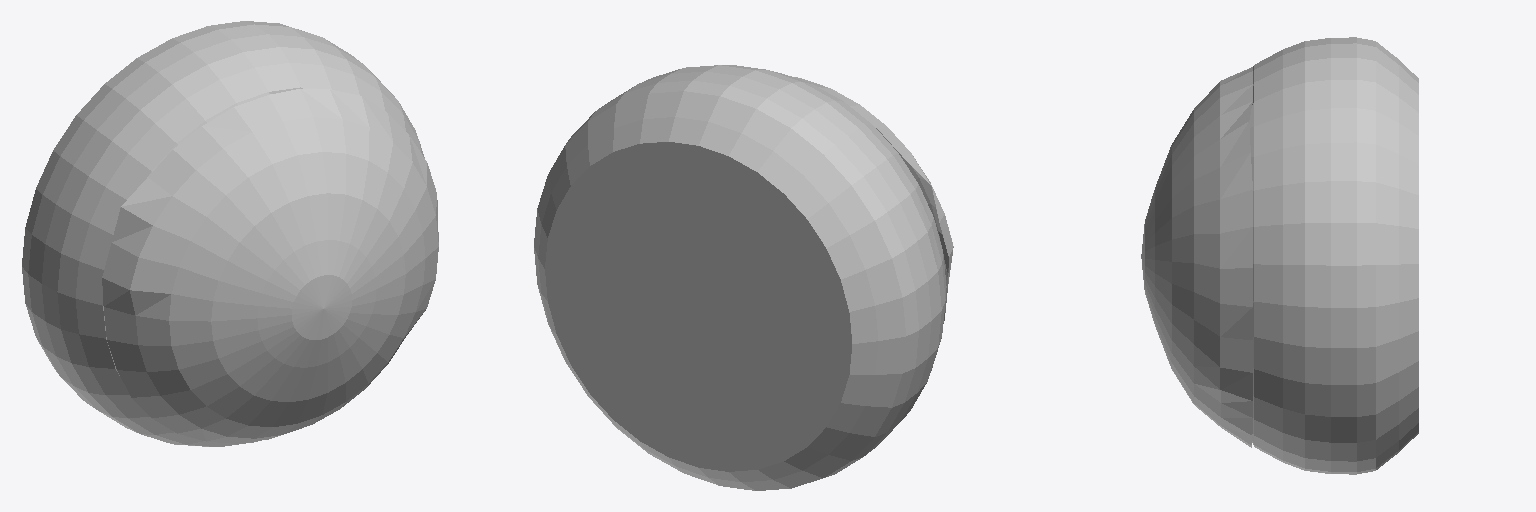
Rendered from blob2.obj.
The picture shows the model from 3 angles: view 1: azimuth 30°, elevation 25°; view 2: azimuth 150°, elevation 25°; view 3: azimuth 270°, elevation 25°; orthographic projection.
Visible parts, largest first — view 1: Sphere_Sphere.001; view 2: Sphere_Sphere.001; view 3: Sphere_Sphere.001.
Boxes of the visible parts, <box> form: Sphere_Sphere.001: <box>22,21,438,446</box>; Sphere_Sphere.001: <box>534,65,953,490</box>; Sphere_Sphere.001: <box>1141,37,1418,474</box>.
Bounding box in the file's own units: 1.49 × 1.49 × 0.9476.